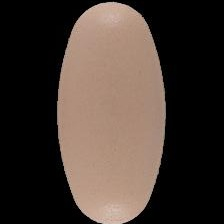61958-1003: (0, 0, 224, 224)
